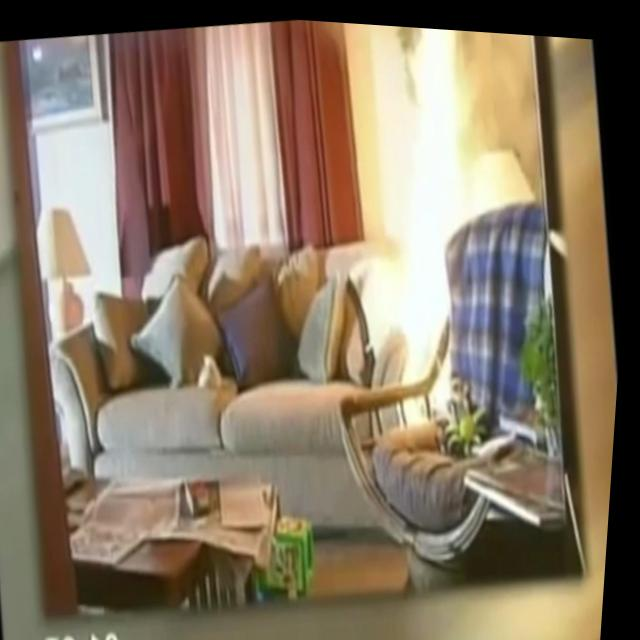fire: (345, 19, 513, 428)
